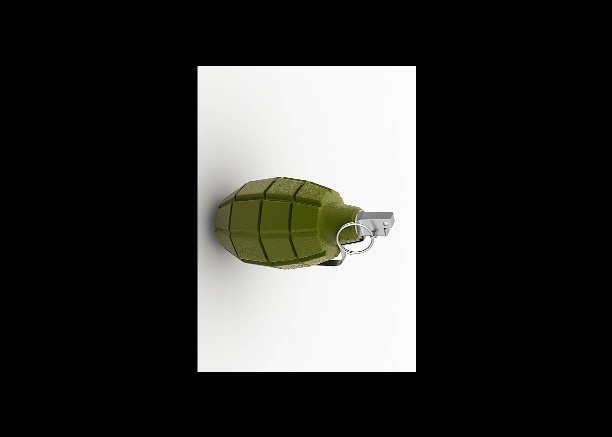e1: (209, 175, 397, 271)
